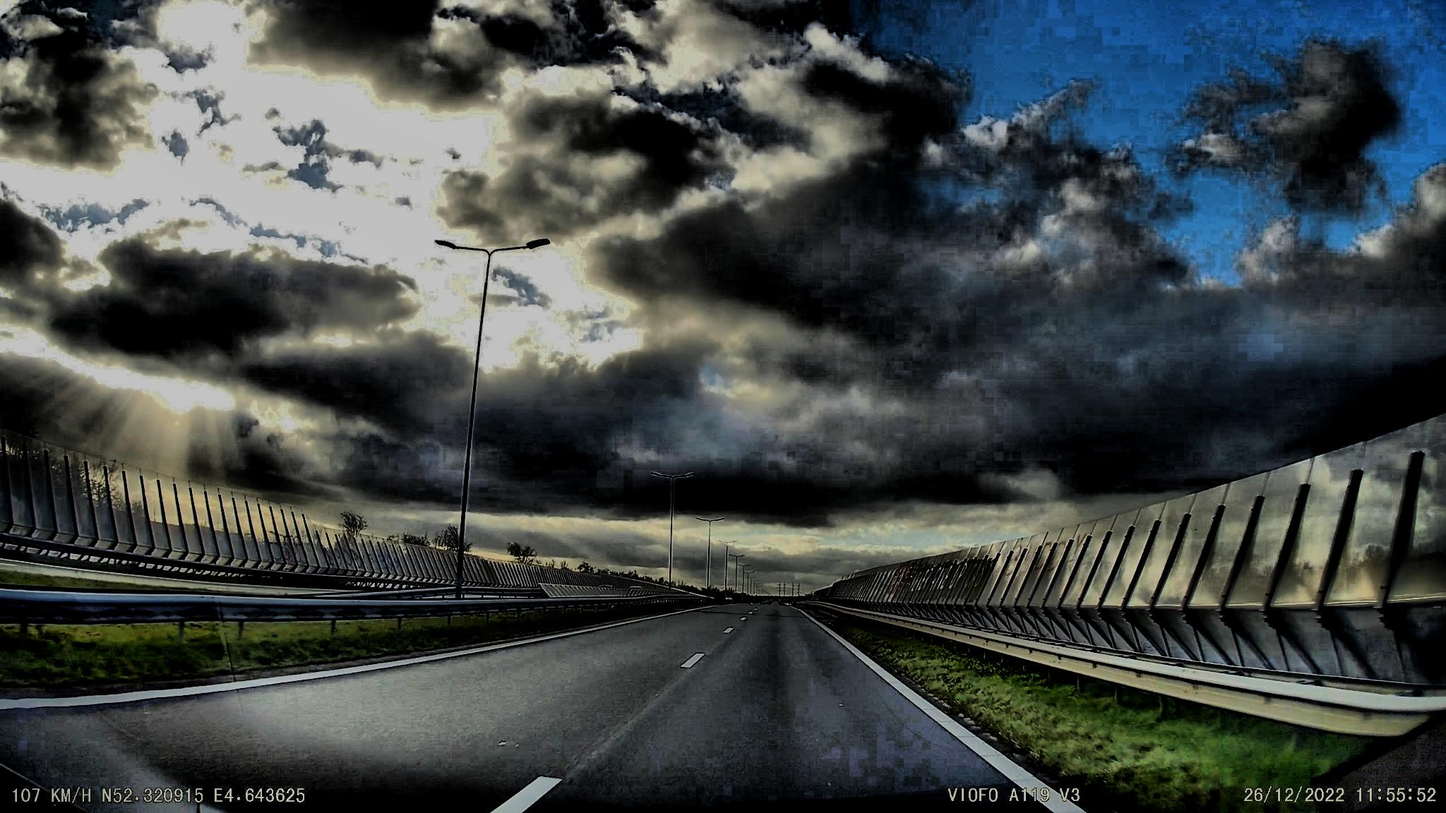Roads: (0, 605, 1015, 813)
